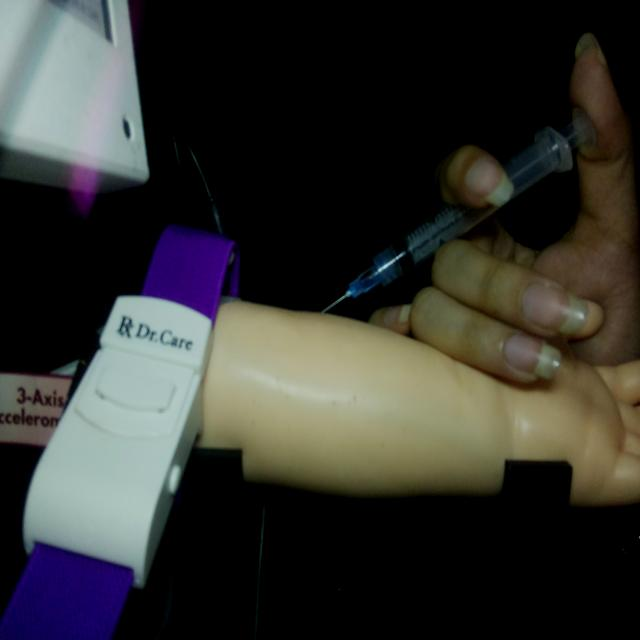23 degrees: (319, 105, 597, 316)
